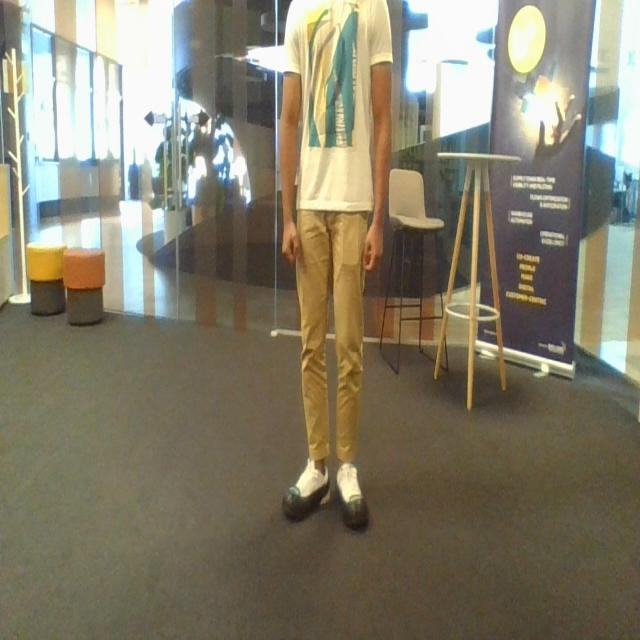shoes: (328, 461, 378, 536), (279, 455, 330, 518)
